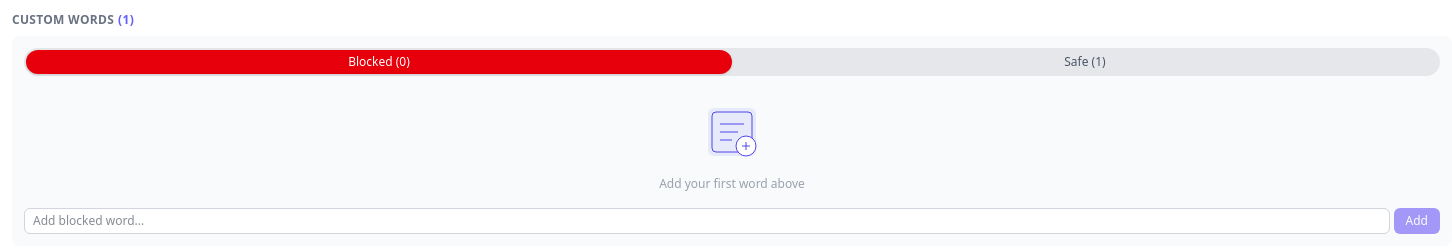
Test case: CustomWords › switching to "safe" category shows safe words
The image size is (1452, 251).
Note: Click the Safe category button
Click the button "Safe (1)".
click(1085, 62)  # box [732, 50, 1438, 74]
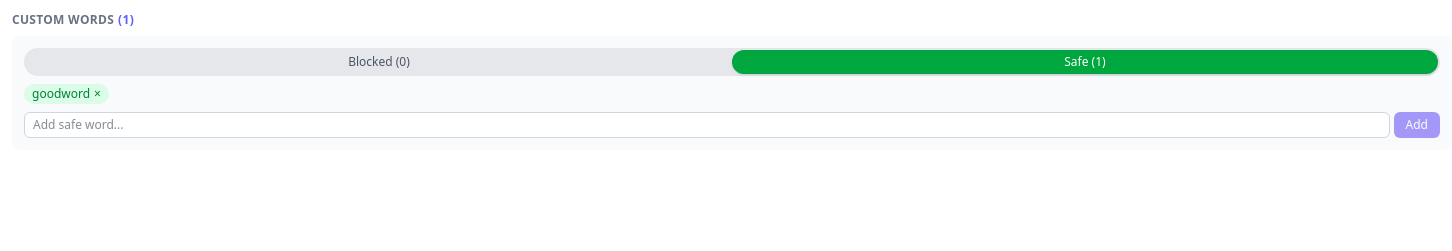
Expected: the text "goodword" is shown, [32, 85, 90, 102]
